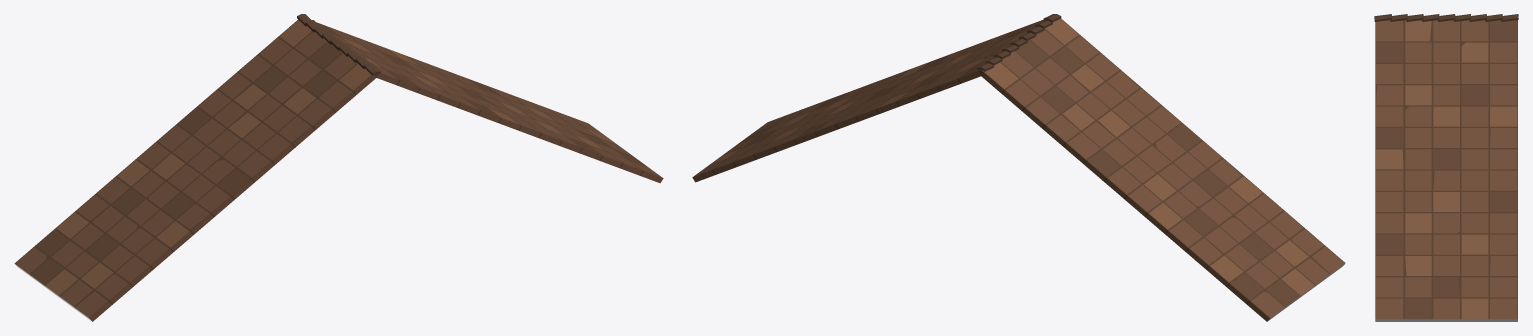
File: Roof4_C9_01.fbx
The picture shows the model from 3 angles, left to right: view 1: azimuth 30°, elevation 25°; view 2: azimuth 150°, elevation 25°; view 3: azimuth 270°, elevation 25°; orthographic projection. The views are drawn at different scales.
Parts seen in each view (by area): view 1: Roof4_C9_01; view 2: Roof4_C9_01; view 3: Roof4_C9_01.
Boxes of the visible parts, x1,y1,x2,y2 form: Roof4_C9_01: (14,14,663,321); Roof4_C9_01: (692,14,1345,321); Roof4_C9_01: (1374,14,1518,321).
Bounding box in the file's own units: 1105 × 338 × 252.
